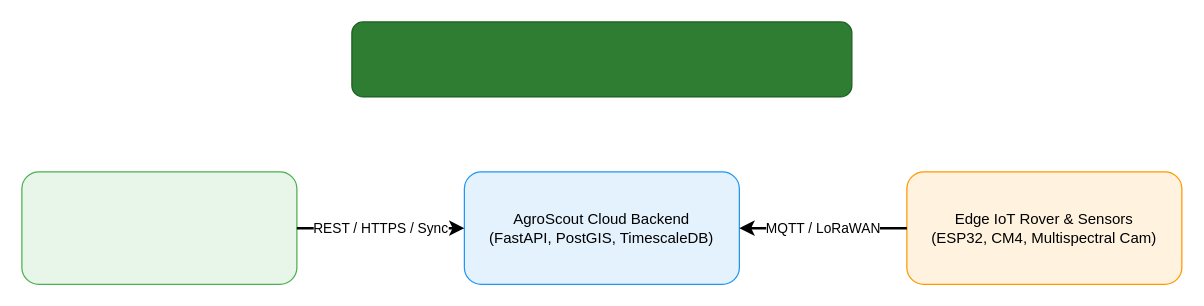
This 1204x306 diagram has some shape labels left out. Each missing label, with the box of its shape:
Flutter Mobile Client (Offline Cache & On-Device TFLite): (21, 171, 297, 284)
Master System Architecture: (351, 21, 852, 97)
